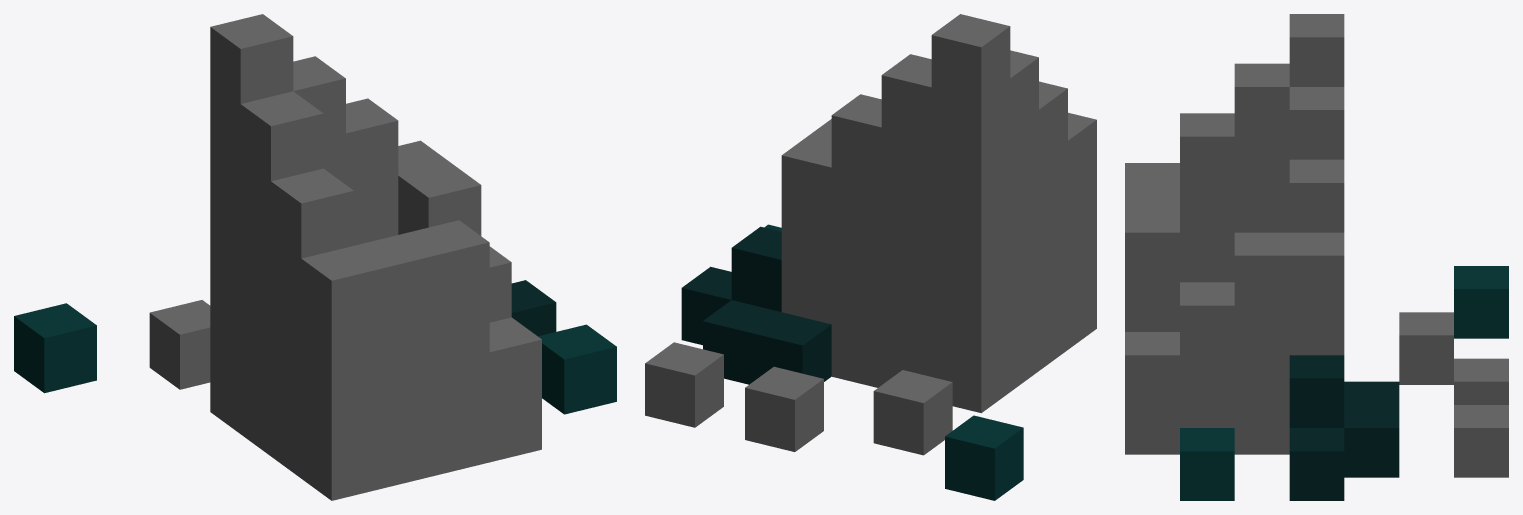
The model's file is rock8.obj.
3 views of the same model, side by side, from view 1: azimuth 30°, elevation 25°; view 2: azimuth 150°, elevation 25°; view 3: azimuth 270°, elevation 25° (orthographic). The views are drawn at different scales.
Size of the model in its own units: 0.8 by 0.7 by 0.7.
Materials: 1 (1 with a texture image).
